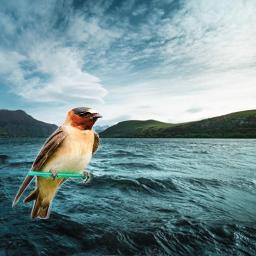Swallow: (12, 106, 103, 219)
